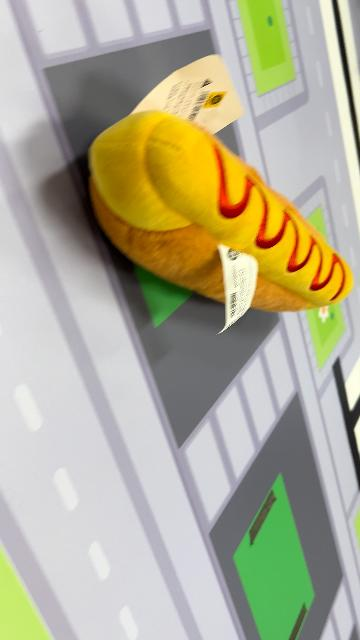hotdog: (86, 108, 354, 320)
